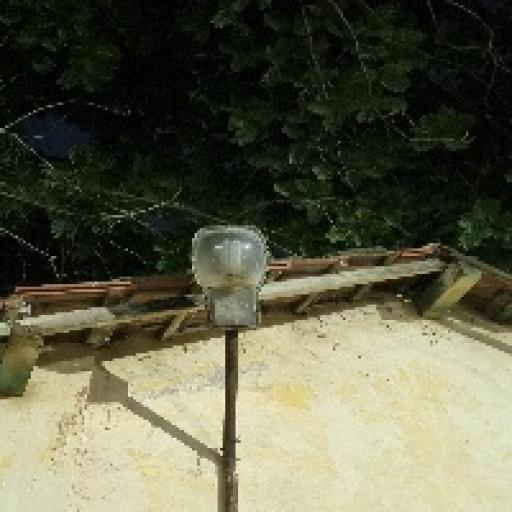Not Working: (183, 213, 293, 343)
